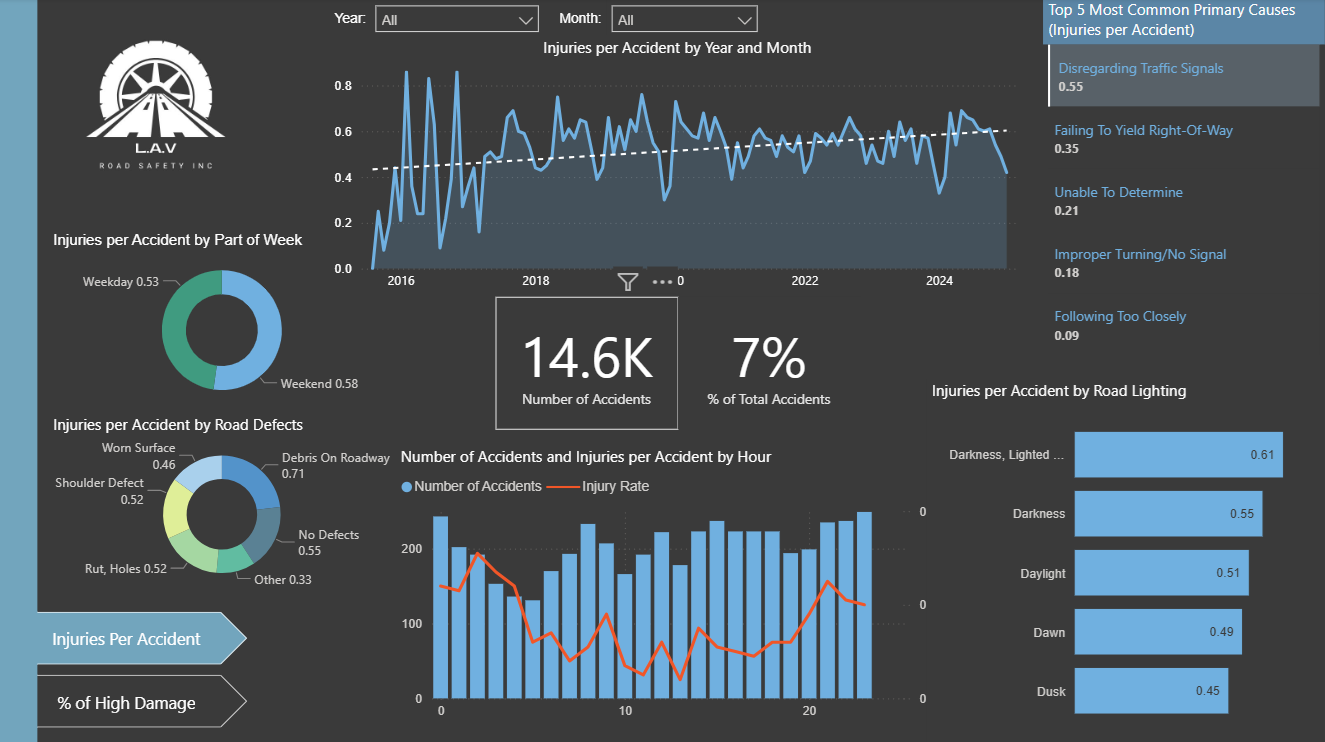

This screenshot's page, from the dashboard's own definition file:
{"tool":"powerbi","page":{"name":"Injuries Per Accident","canvas":[1280,720],"ordinal":0},"visuals":[{"type":"image","box":[48,0,208,208],"z":0},{"type":"textbox","box":[320,7,67,33.2],"z":0,"group":"g1"},{"type":"textbox","box":[537.7,7,67,33.2],"z":1000,"group":"g1"},{"type":"lineClusteredColumnComboChart","title":"Number of Accidents and Injuries per Accident by Hour","fields":{"Category":["Dates_table.Hour"],"Y2":["Key Measures.Injury Rate (IR)"],"Y":["Key Measures.Number of Accidents with Injury"]},"box":[384,432,528,272],"z":1000},{"type":"donutChart","title":"Injuries per Accident by Part of Week","fields":{"Y":["Key Measures.Injury Rate (IR)"],"Category":["Dates_table.Weekend/Weekday"]},"box":[48,224,336,176],"z":2000},{"type":"pageNavigator","box":[32,592,208,112],"z":5000},{"type":"advancedSlicerVisual","title":"Top 5 Most Common Primary Causes (Injuries per Accident)","fields":{"Values":["Fact.prim_contributory_cause"]},"box":[1008,0,272,352],"z":6000},{"type":"shape","box":[0,0,38,720],"z":7000},{"type":"slicer","title":"Year","fields":{"Values":["Dates_table.Year"]},"box":[359.8,2,167.4,49.8],"z":7000,"group":"g1"},{"type":"donutChart","title":"Injuries per Accident by Road Defects","fields":{"Category":["Road_Conditions.road_defect"],"Y":["Key Measures.Injury Rate (IR)"]},"box":[48,400,336,176],"z":8000},{"type":"slicer","fields":{"Values":["Dates_table.Month Name"]},"box":[587.9,2,150.7,49.8],"z":9000,"group":"g1"},{"type":"clusteredBarChart","title":"Injuries per Accident by Road Lighting","fields":{"Y":["Key Measures.Injury Rate (IR)"],"Category":["Weather_Conditions.lighting_condition"]},"box":[896,368,384,352],"z":9000},{"type":"group","id":"g1","title":"Group 1","box":[320,2,672,288],"z":10000},{"type":"card","fields":{"Values":["Key Measures.Number of Accidents"]},"box":[480,288,176,128],"z":11000},{"type":"card","fields":{"Values":["Key Measures.% of Total Accidents"]},"box":[656,288,176,128],"z":12000},{"type":"areaChart","title":"Injuries per Accident by Year and Month","fields":{"Y":["Key Measures.Injury Rate (IR)"],"Category":["Dates_table.Year and Month"]},"box":[320,34,672,256],"z":14500,"group":"g1"}]}

Visuals, with their boxes in screenshot pixels (x1, y1, x2, y2), scaled from the page's 1280x720 canvas onto the 1325x742 screenshot:
image: [50, 0, 265, 214]
textbox: [331, 7, 401, 41]
textbox: [557, 7, 626, 41]
"Number of Accidents and Injuries per Accident by Hour" lineClusteredColumnComboChart: [398, 445, 944, 726]
"Injuries per Accident by Part of Week" donutChart: [50, 231, 398, 412]
pageNavigator: [33, 610, 248, 726]
"Top 5 Most Common Primary Causes (Injuries per Accident)" advancedSlicerVisual: [1043, 0, 1324, 363]
shape: [0, 0, 39, 741]
"Year" slicer: [372, 2, 546, 53]
"Injuries per Accident by Road Defects" donutChart: [50, 412, 398, 594]
slicer - Dates_table.Month Name: [609, 2, 765, 53]
"Injuries per Accident by Road Lighting" clusteredBarChart: [928, 379, 1324, 741]
"Group 1" group: [331, 2, 1027, 299]
card - Key Measures.Number of Accidents: [497, 297, 679, 429]
card - Key Measures.% of Total Accidents: [679, 297, 861, 429]
"Injuries per Accident by Year and Month" areaChart: [331, 35, 1027, 299]
